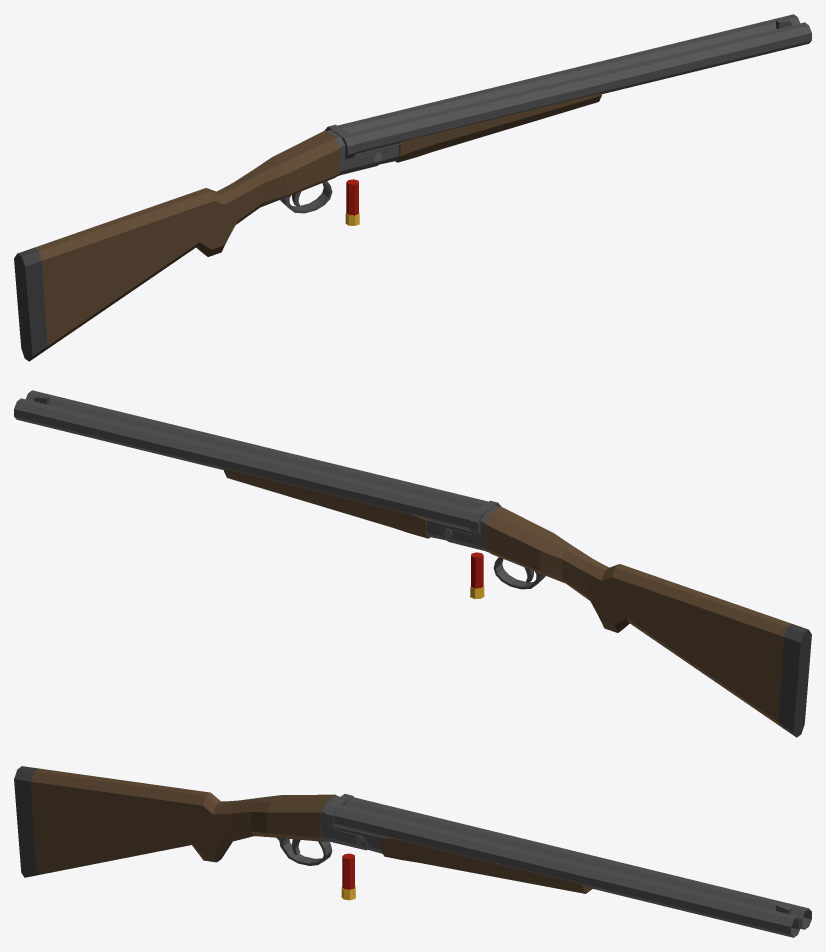
The model's file is Double Barrel Shotgun.fbx.
The picture shows the model from 3 angles, top to bottom: view 1: azimuth 30°, elevation 25°; view 2: azimuth 150°, elevation 25°; view 3: azimuth 330°, elevation 25°; orthographic projection.
Parts seen in each view (by area): view 1: Double Barrel Shotgun, Bullet; view 2: Double Barrel Shotgun; view 3: Double Barrel Shotgun, Bullet.
Part boxes in pixels (box(x1,y1,x2,y2)): Double Barrel Shotgun: box(14, 14, 811, 361); Bullet: box(345, 179, 359, 225); Double Barrel Shotgun: box(14, 390, 811, 737); Double Barrel Shotgun: box(14, 766, 811, 937); Bullet: box(341, 853, 355, 900).
Bounding box in the file's own units: 847 × 161 × 43.11.
1 material, 1 textured.
